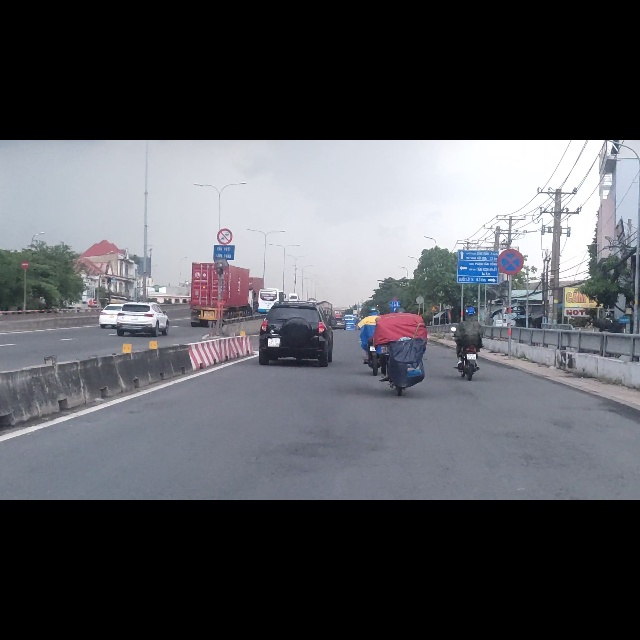bien_cam: (497, 193, 524, 240), (217, 157, 233, 185), (22, 215, 28, 229)
